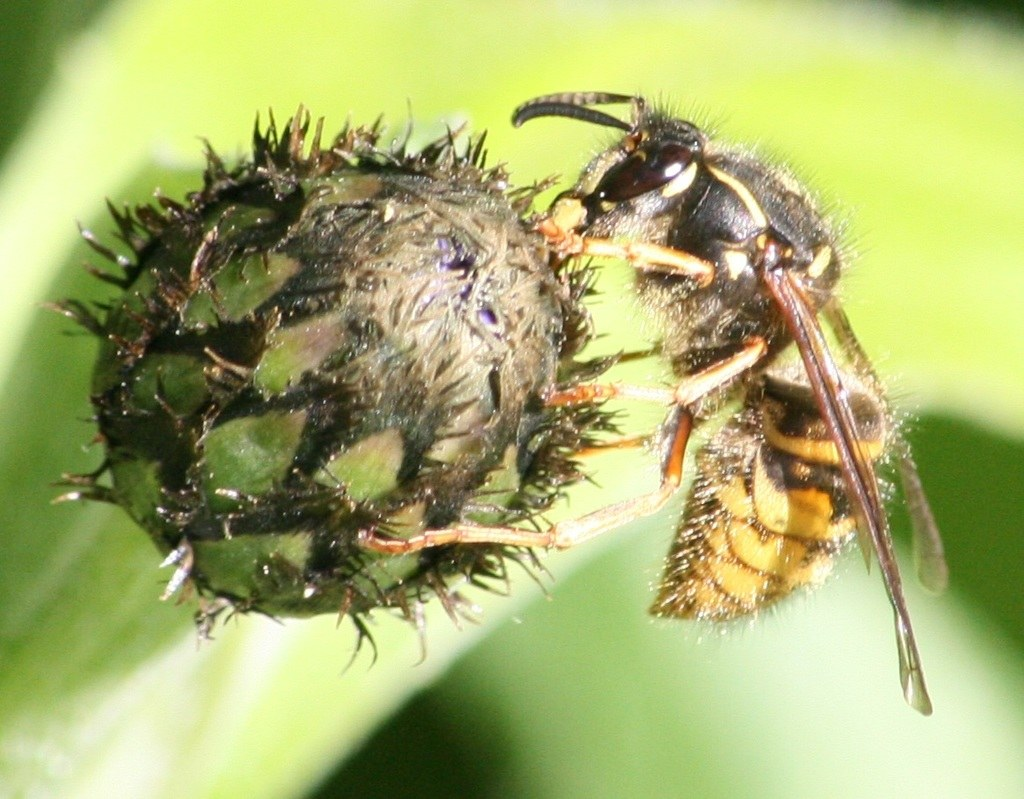bee: (512, 88, 945, 713)
